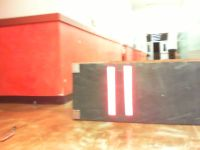switch: (123, 65, 134, 116), (106, 66, 117, 116)
